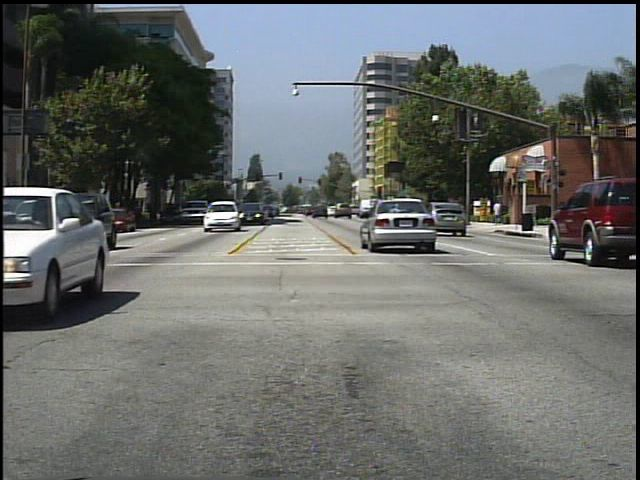person: (448, 194, 466, 229), (492, 196, 505, 227)
